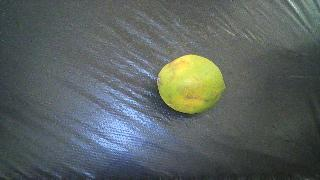DESECHO: (157, 55, 226, 114)
